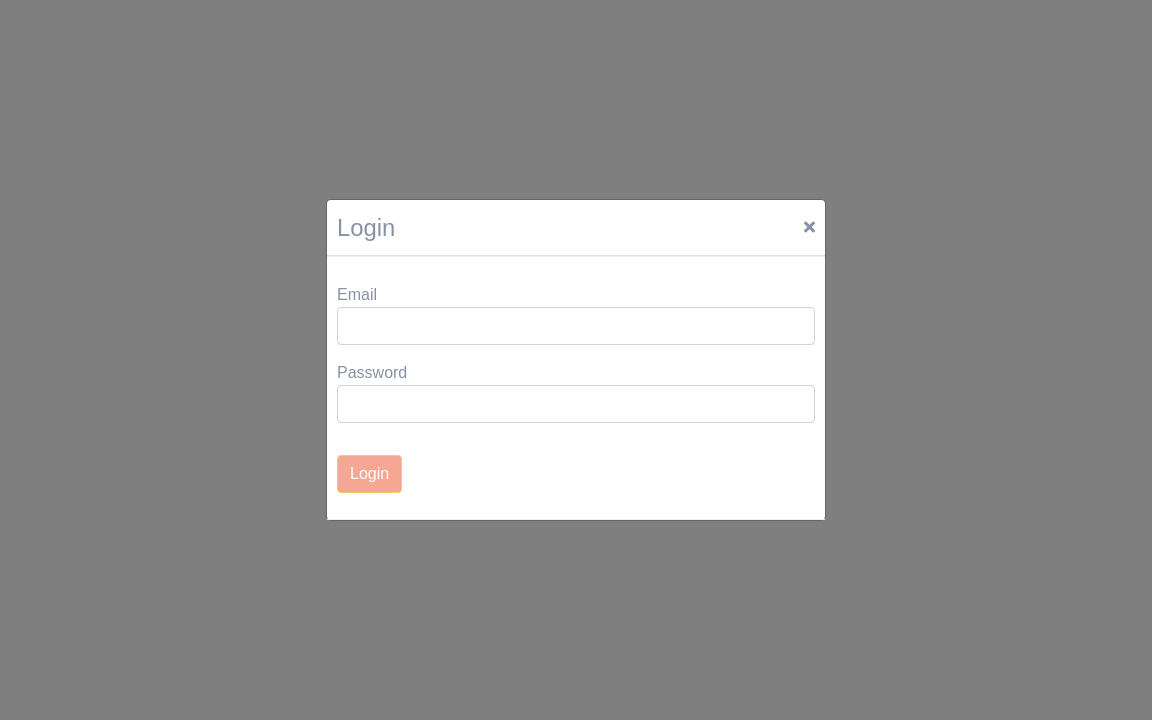
Scenario: Login › Login Form validation › Valid credentials Login button should be "enabled" and err messages "should not" present
This screenshot has width=1152, height=720.
In the field labelled "Email": (576, 326) [337,307,815,345], type "solar@solar.com"
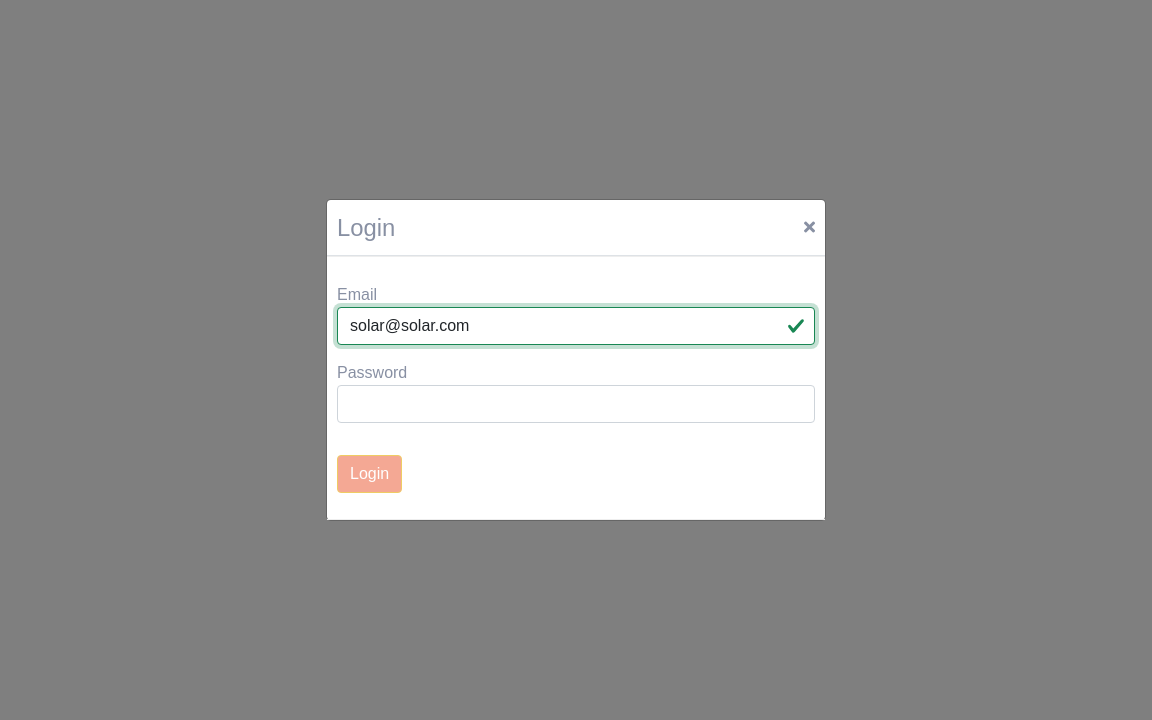
In the password field labelled "Password": (576, 404) [337,385,815,423], type "pass123@"
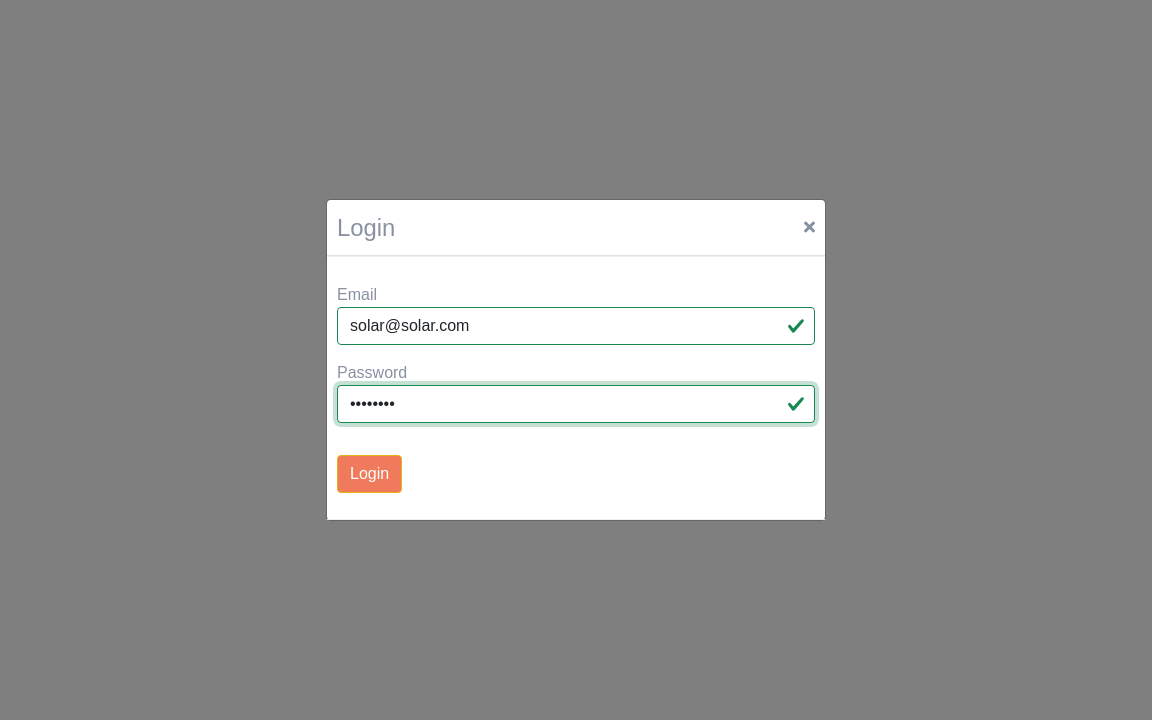
Now the button "Login" is enabled, box [337,455,402,493]
